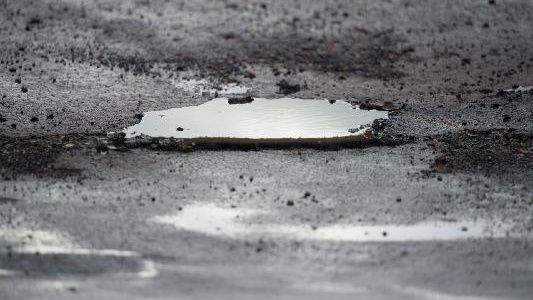pothole: (105, 95, 402, 157)
